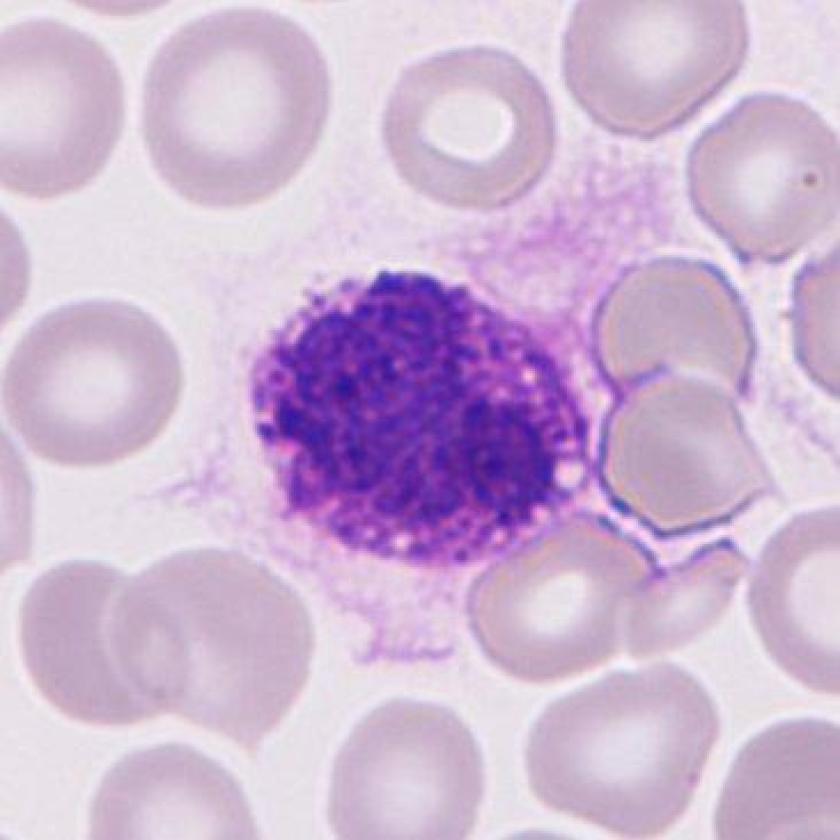basophil: (240, 251, 605, 568)
